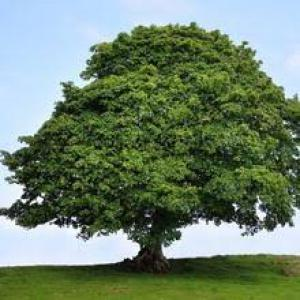Tree: (0, 19, 298, 269)
